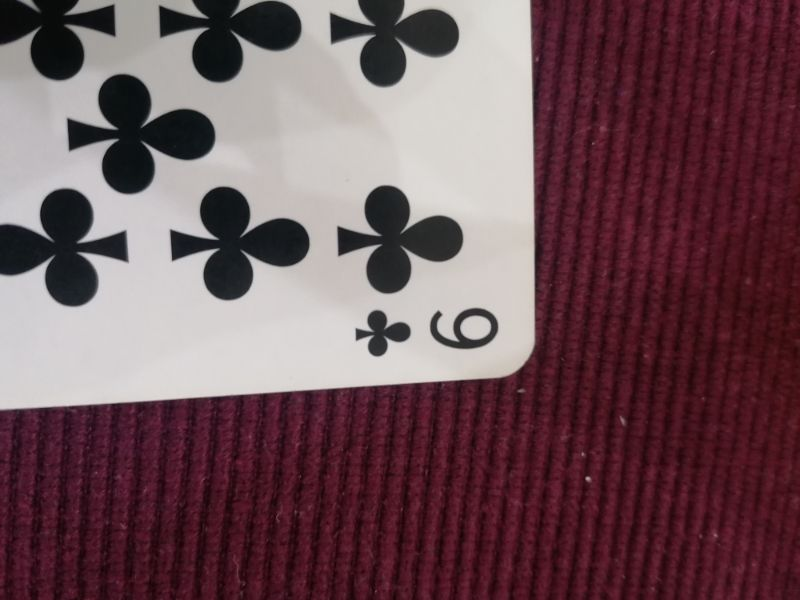9c: (353, 298, 508, 359)
